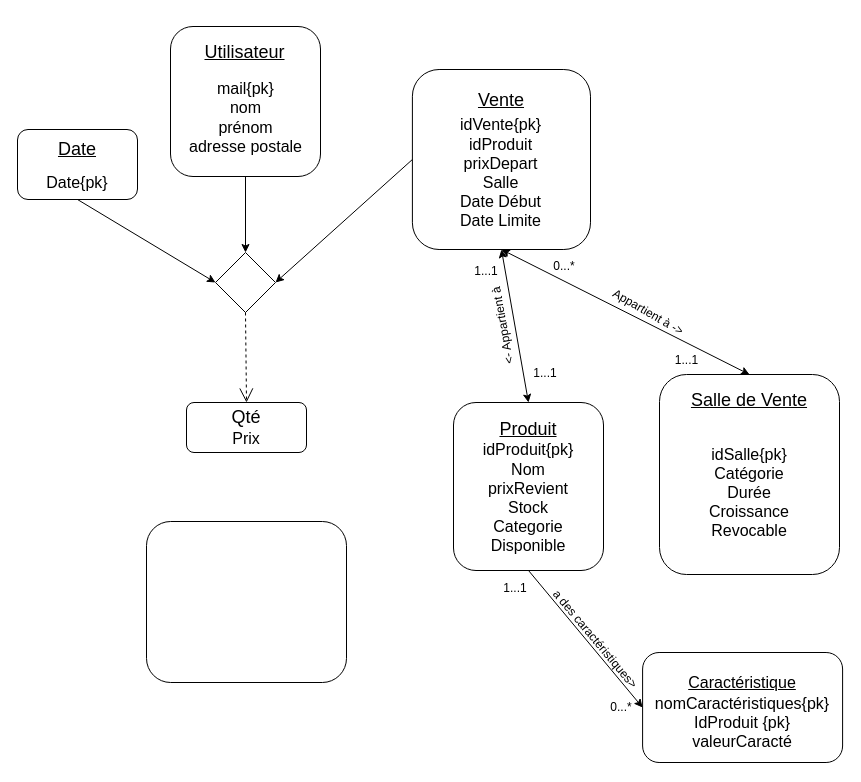
Image size: 861x782. Some labels were removed from this diagram. Each missing label, with the centre of its shape:
"Offre" belongs at pixel 245 282.
"prixRevient >=0 Stock >= 0 prixOffre >= 0 Qté <= Stock Qté >= 0 prixDépart >= 0" belongs at pixel 246 601.
